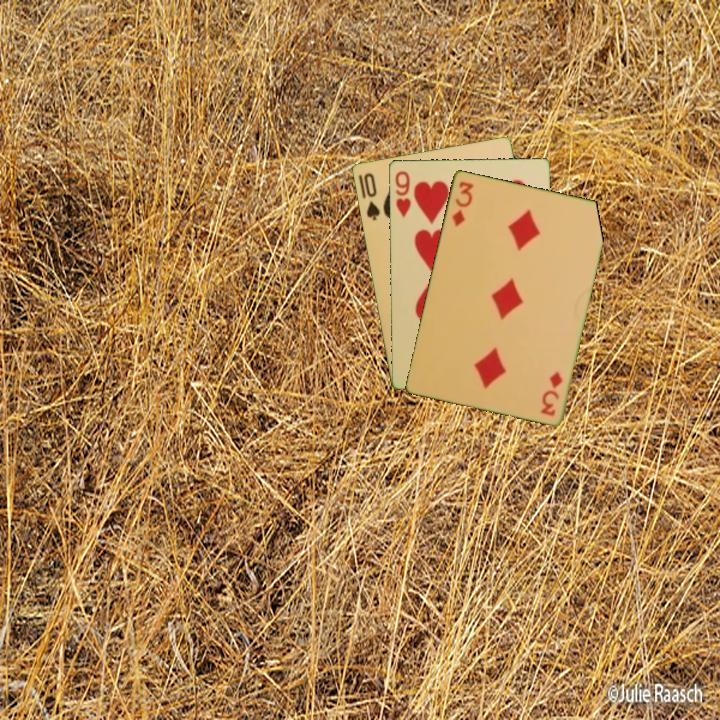10s: (360, 169, 382, 223)
3d: (448, 178, 476, 229), (537, 367, 565, 418)
9h: (391, 167, 413, 219)
